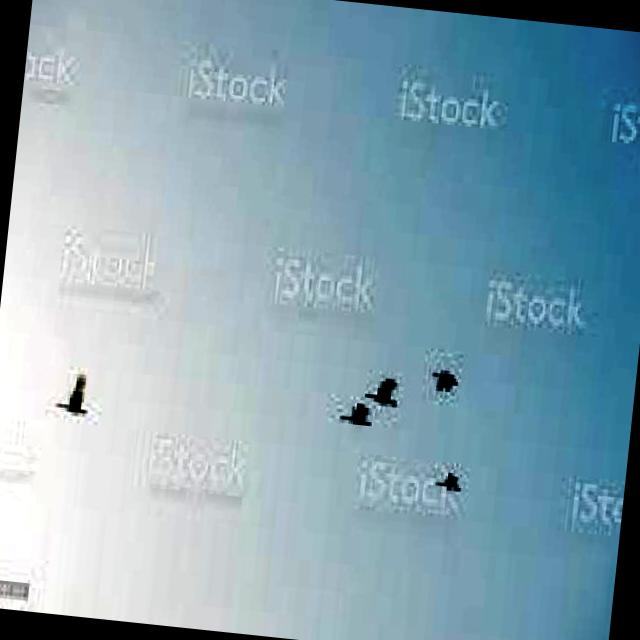bird: (48, 368, 93, 420), (364, 372, 402, 409), (338, 399, 374, 434)
